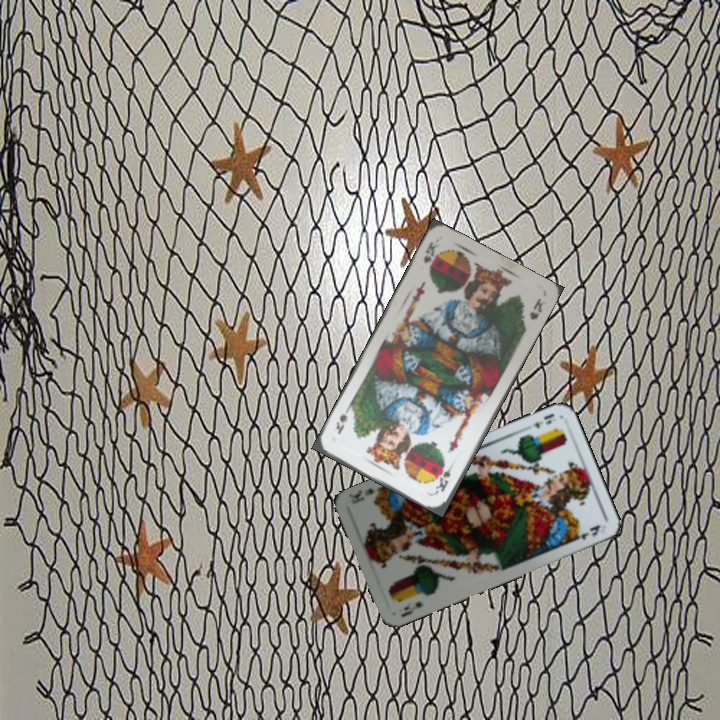EK: (397, 597, 425, 620), (529, 409, 556, 431)
SK: (431, 459, 457, 496), (419, 237, 440, 272)
